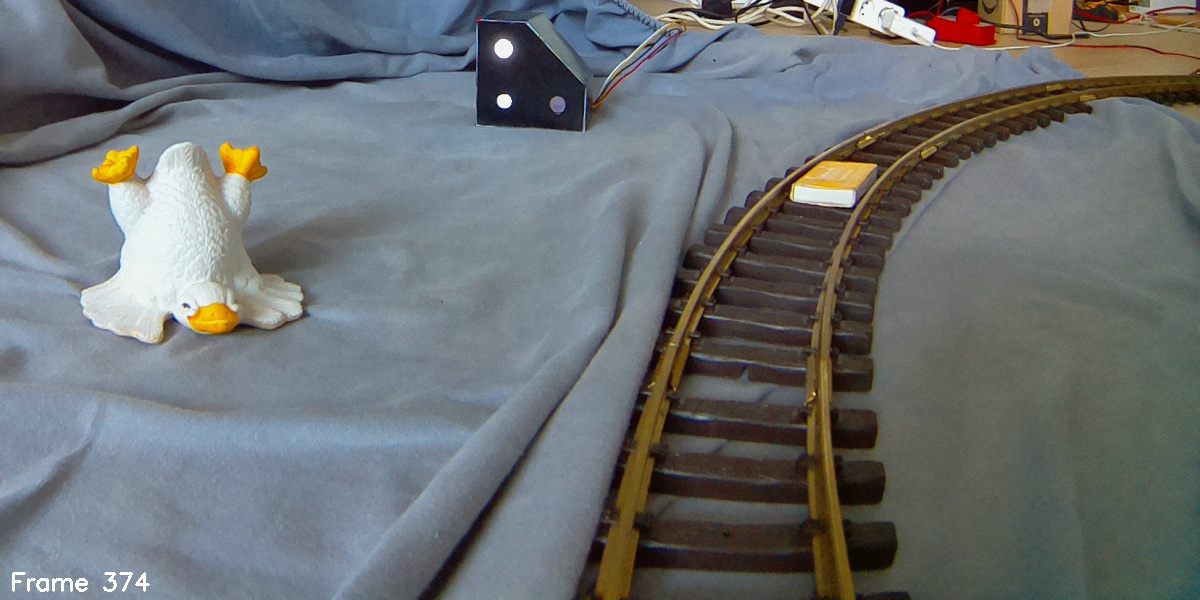Ente: (80, 134, 312, 350)
Fahrt: (476, 10, 590, 131)
